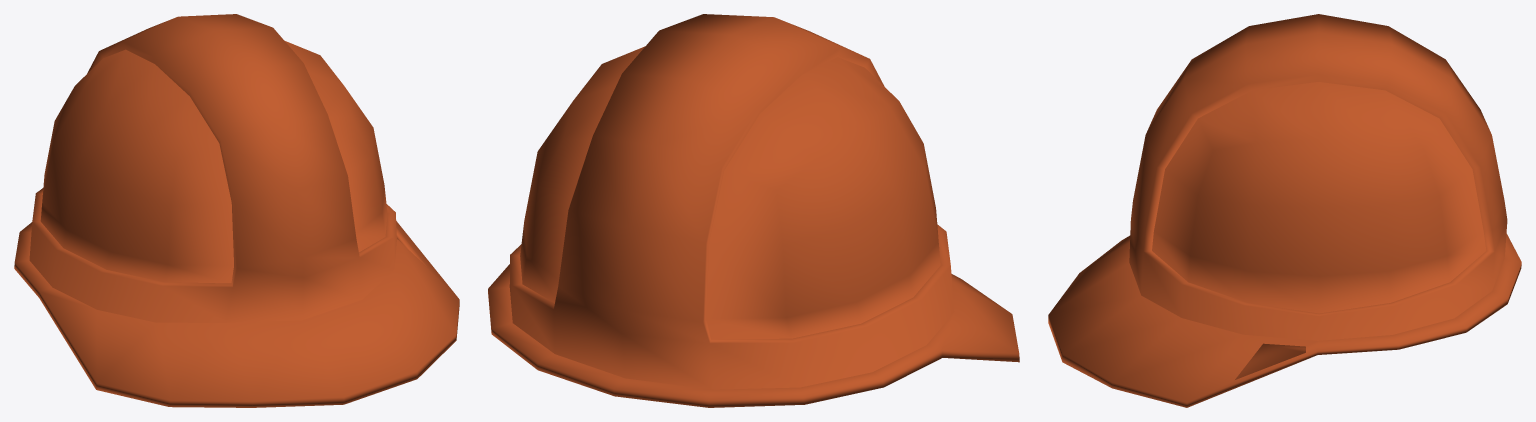
Rendered from Helmet.fbx.
3 renders of one model, left to right at view 1: azimuth 30°, elevation 25°; view 2: azimuth 150°, elevation 25°; view 3: azimuth 270°, elevation 25°, orthographic. The views are drawn at different scales.
Parts seen in each view (by area): view 1: Cube; view 2: Cube; view 3: Cube.
Boxes of the visible parts, bbox=[...] form: Cube: bbox=[14, 14, 459, 407]; Cube: bbox=[488, 14, 1019, 407]; Cube: bbox=[1048, 14, 1521, 407].
Bounding box in the file's own units: 205 × 151 × 225.
